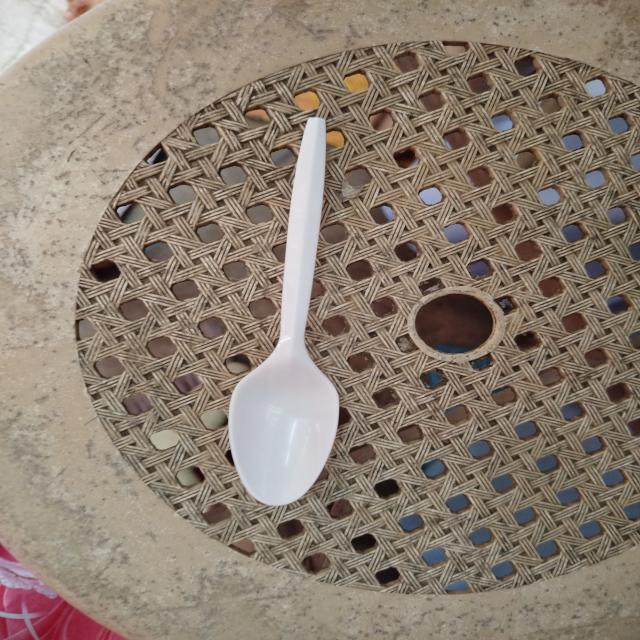plastic: (196, 114, 373, 525)
